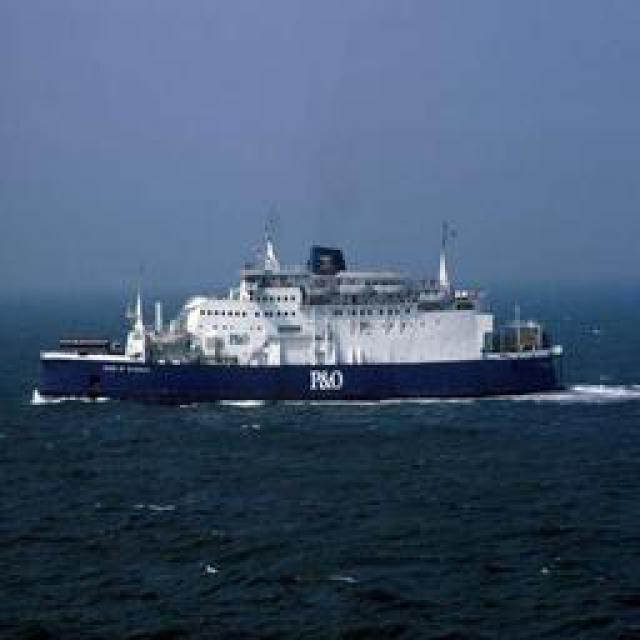Ship: (42, 207, 572, 405)
